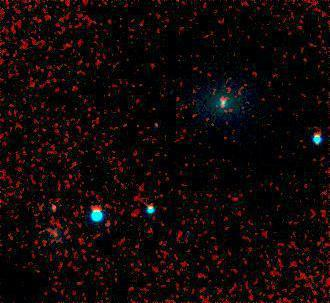star: (214, 86, 244, 116)
